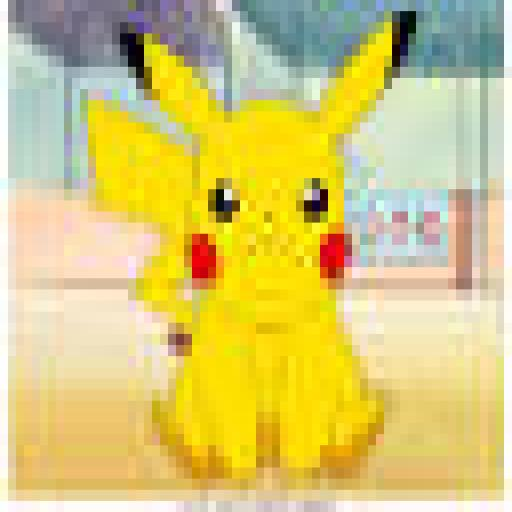Pikachu: (85, 13, 417, 493)
